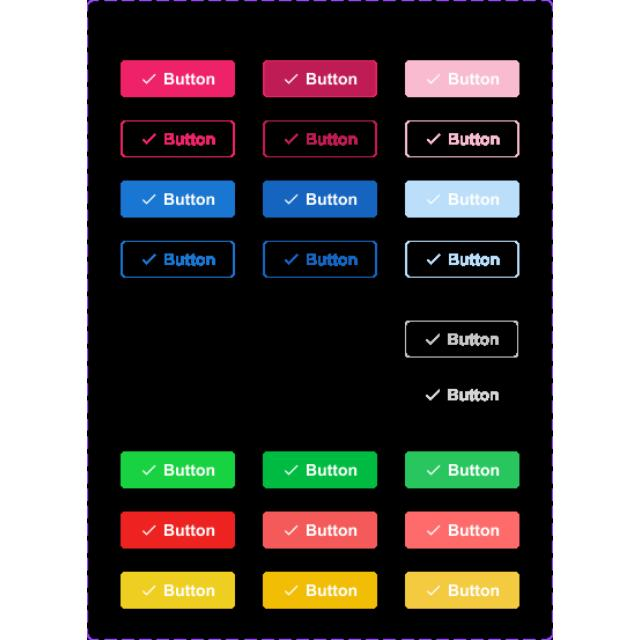QLabel: (160, 70, 218, 88), (161, 251, 217, 267), (447, 191, 501, 207), (446, 251, 500, 267), (304, 251, 358, 267), (162, 331, 216, 347), (305, 386, 359, 402), (305, 463, 359, 479), (162, 584, 216, 600), (447, 584, 501, 600), (306, 72, 358, 88), (164, 462, 216, 478), (164, 522, 216, 538), (450, 72, 500, 88), (446, 524, 502, 538), (162, 132, 216, 146), (304, 332, 358, 346), (446, 332, 500, 346), (162, 388, 216, 402), (446, 388, 500, 402), (447, 464, 501, 478), (304, 524, 358, 538), (162, 192, 215, 206), (306, 132, 358, 146), (448, 132, 500, 146), (306, 192, 358, 206), (306, 584, 358, 598)
VBtn: (402, 317, 522, 361), (119, 508, 238, 552), (260, 317, 378, 361), (119, 448, 237, 492), (119, 568, 237, 612), (119, 318, 238, 360), (120, 58, 236, 100), (120, 178, 236, 220), (262, 119, 380, 160), (118, 240, 235, 280), (261, 60, 379, 98), (260, 512, 378, 550), (261, 180, 377, 218), (262, 240, 378, 278), (262, 452, 378, 490), (262, 572, 378, 610), (405, 60, 519, 98), (121, 120, 235, 158), (406, 180, 520, 218), (406, 512, 520, 550), (406, 572, 520, 610), (408, 120, 520, 158), (408, 241, 520, 279), (260, 379, 378, 413), (401, 380, 525, 412), (406, 452, 516, 488), (120, 380, 236, 412)
VIcon: (423, 71, 442, 87), (280, 332, 300, 346), (138, 388, 158, 402), (140, 70, 156, 86), (426, 462, 442, 478), (282, 72, 300, 86), (282, 193, 300, 207), (424, 192, 442, 206), (424, 252, 442, 266), (423, 332, 441, 346), (138, 332, 156, 346), (282, 388, 300, 402), (140, 464, 158, 478), (282, 524, 300, 538), (424, 584, 442, 598), (140, 132, 156, 146), (283, 132, 299, 146), (140, 253, 156, 267), (141, 524, 157, 538), (426, 523, 442, 537), (284, 584, 300, 598), (138, 194, 156, 206), (424, 389, 442, 401), (140, 585, 158, 597), (284, 252, 298, 266), (283, 464, 299, 476), (426, 133, 440, 145)
